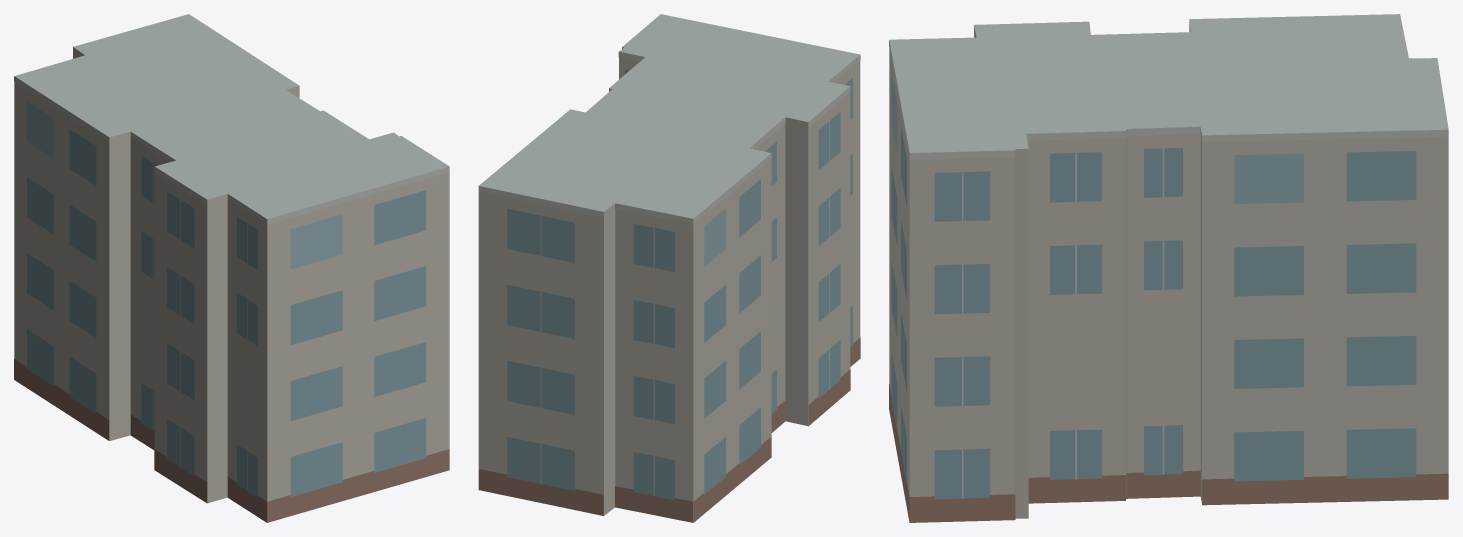
Rendered from survey-upis-32698607.glb.
The picture shows the model from 3 angles, left to right: view 1: azimuth 30°, elevation 25°; view 2: azimuth 150°, elevation 25°; view 3: azimuth 270°, elevation 25°; orthographic projection. The views are drawn at different scales.
Parts seen in each view (by area): view 1: survey-upis-32698607.tmp; view 2: survey-upis-32698607.tmp; view 3: survey-upis-32698607.tmp.
Part boxes in pixels (x1,y1,x2,y2): survey-upis-32698607.tmp: (14, 14, 449, 522); survey-upis-32698607.tmp: (478, 14, 860, 522); survey-upis-32698607.tmp: (889, 14, 1448, 522).
Size of the model in its own units: 10.5 by 13 by 17.84.
